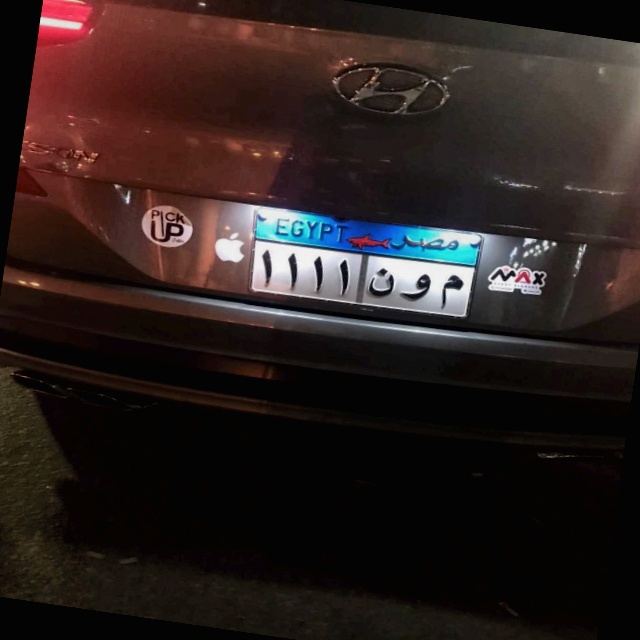License Plate: (246, 201, 485, 324)
